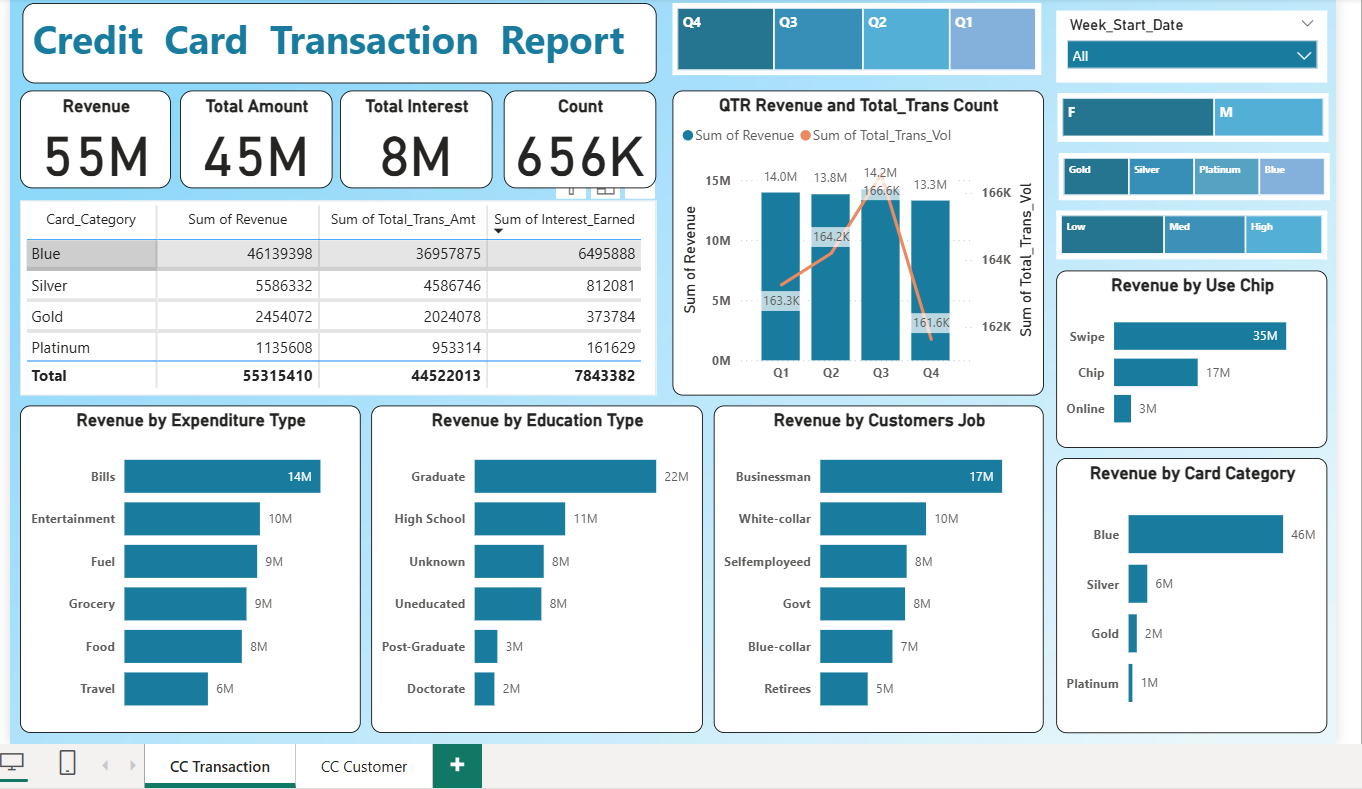

What the dashboard file says about the page in this screenshot:
{"tool":"powerbi","page":{"name":"CC Transaction","canvas":[1280,720],"ordinal":0},"visuals":[{"type":"textbox","box":[12.1,4.8,611.7,77.2],"z":0},{"type":"lineStackedColumnComboChart","title":"QTR Revenue and Total_Trans Count ","fields":{"Category":["credit_card.Qtr"],"Y":["Sum(credit_card.Revenue)"],"Y2":["Sum(credit_card.Total_Trans_Vol)"]},"box":[639.4,89.3,358.3,294.4],"z":1000},{"type":"clusteredBarChart","title":" Revenue by Expenditure Type","fields":{"Category":["credit_card.Exp Type"],"Y":["Sum(credit_card.Revenue)"]},"box":[9.7,393.3,329,316.1],"z":2000},{"type":"clusteredBarChart","title":" Revenue by Education Type","fields":{"Y":["Sum(credit_card.Revenue)"],"Category":["customer.Education_Level"]},"box":[348.7,393.3,319.7,316.1],"z":3000},{"type":"clusteredBarChart","title":" Revenue by Card Category","fields":{"Y":["Sum(credit_card.Revenue)"],"Category":["credit_card.Card_Category"]},"box":[1009.8,444,261.8,265.4],"z":4000},{"type":"clusteredBarChart","title":" Revenue by Use Chip","fields":{"Y":["Sum(credit_card.Revenue)"],"Category":["credit_card.Use Chip"]},"box":[1009.8,263,261.8,171.3],"z":5000},{"type":"clusteredBarChart","title":" Revenue by Customers Job","fields":{"Y":["Sum(credit_card.Revenue)"],"Category":["customer.Customer_Job"]},"box":[679.2,393.3,318.5,316.1],"z":6000},{"type":"tableEx","fields":{"Values":["credit_card.Card_Category","Sum(credit_card.Revenue)","Sum(credit_card.Total_Trans_Amt)","Sum(credit_card.Interest_Earned)"]},"box":[9.7,195.4,614.1,188.2],"z":7000},{"type":"card","title":"Revenue","fields":{"Values":["Sum(credit_card.Revenue)"]},"box":[9.7,89.3,146,94.1],"z":8000},{"type":"card","title":"Total Amount","fields":{"Values":["Sum(credit_card.Total_Trans_Amt)"]},"box":[164.1,89.3,147.2,94.1],"z":9000},{"type":"card","title":"Total Interest","fields":{"Values":["Sum(credit_card.Interest_Earned)"]},"box":[318.5,89.3,147.2,94.1],"z":10000},{"type":"card","title":"Count","fields":{"Values":["Sum(credit_card.Total_Trans_Vol)"]},"box":[476.5,89.3,147.2,94.1],"z":11000},{"type":"slicer","fields":{"Values":["credit_card.Week_Start_Date"]},"box":[1009.8,12.1,261.8,70],"z":12000},{"type":"treemap","fields":{"Group":["credit_card.Qtr"],"Values":["Avg(credit_card.Client_Num)"]},"box":[639.4,4.8,355.9,70],"z":13000},{"type":"treemap","fields":{"Group":["customer.Gender"],"Values":["CountNonNull(credit_card.Client_Num)"]},"box":[1011,91.7,261.8,47.1],"z":14000},{"type":"treemap","fields":{"Values":["Sum(credit_card.Client_Num)"],"Group":["customer.IncomeGroup"]},"box":[1009.8,205.1,261.8,47.1],"z":15000},{"type":"treemap","fields":{"Group":["credit_card.Card_Category"],"Values":["Min(credit_card.Client_Num)"]},"box":[1012.2,149.6,261.8,45.8],"z":16000}]}

Visuals, with their boxes on the page's 1280x720 design canvas (x1, y1, x2, y2). These are canvas units, not pixel positions in the 1362x789 screenshot, which may show the page scaled, cropped or inside an application window:
textbox: (x1=12, y1=5, x2=624, y2=82)
"QTR Revenue and Total_Trans Count " lineStackedColumnComboChart: (x1=639, y1=89, x2=998, y2=384)
" Revenue by Expenditure Type" clusteredBarChart: (x1=10, y1=393, x2=339, y2=709)
" Revenue by Education Type" clusteredBarChart: (x1=349, y1=393, x2=668, y2=709)
" Revenue by Card Category" clusteredBarChart: (x1=1010, y1=444, x2=1272, y2=709)
" Revenue by Use Chip" clusteredBarChart: (x1=1010, y1=263, x2=1272, y2=434)
" Revenue by Customers Job" clusteredBarChart: (x1=679, y1=393, x2=998, y2=709)
tableEx - credit_card.Card_Category x Sum(credit_card.Revenue): (x1=10, y1=195, x2=624, y2=384)
"Revenue" card: (x1=10, y1=89, x2=156, y2=183)
"Total Amount" card: (x1=164, y1=89, x2=311, y2=183)
"Total Interest" card: (x1=318, y1=89, x2=466, y2=183)
"Count" card: (x1=476, y1=89, x2=624, y2=183)
slicer - credit_card.Week_Start_Date: (x1=1010, y1=12, x2=1272, y2=82)
treemap - credit_card.Qtr x Avg(credit_card.Client_Num): (x1=639, y1=5, x2=995, y2=75)
treemap - customer.Gender x CountNonNull(credit_card.Client_Num): (x1=1011, y1=92, x2=1273, y2=139)
treemap - Sum(credit_card.Client_Num) x customer.IncomeGroup: (x1=1010, y1=205, x2=1272, y2=252)
treemap - credit_card.Card_Category x Min(credit_card.Client_Num): (x1=1012, y1=150, x2=1274, y2=195)
